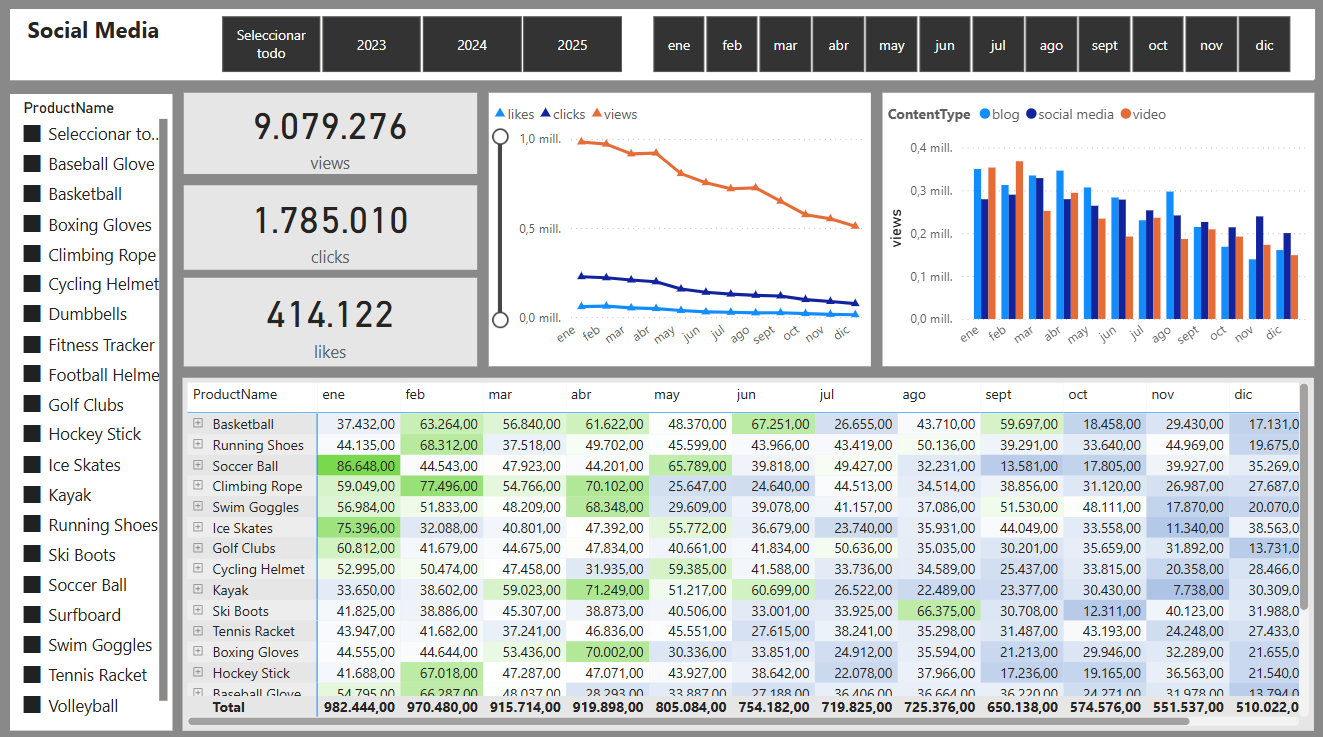

The dashboard page shown, as its layout file describes it:
{"tool":"powerbi","page":{"name":"Social Media","canvas":[1280,720],"ordinal":2},"visuals":[{"type":"textbox","box":[10.1,14.4,1258.7,69],"z":0},{"type":"slicer","fields":{"Values":["dim_products.ProductName"]},"box":[10.1,96.4,156.8,614.3],"z":1000},{"type":"card","fields":{"Values":["_Calculations.views"]},"box":[177.1,95.7,282.9,78.6],"z":2000},{"type":"card","fields":{"Values":["_Calculations.likes"]},"box":[177.1,274.3,282.9,85.7],"z":3000},{"type":"card","fields":{"Values":["_Calculations.clicks"]},"box":[177.1,184.3,282.9,81.4],"z":4000},{"type":"slicer","fields":{"Values":["Calendar.MonthNameShort"]},"box":[604.2,14.4,664.6,67.6],"z":5000},{"type":"slicer","fields":{"Values":["Calendar.Year"]},"box":[188.4,14.4,435.9,67.6],"z":6000},{"type":"lineChart","fields":{"Category":["Calendar.MonthNameShort"],"Y":["_Calculations.likes","_Calculations.clicks","_Calculations.views"]},"box":[471.4,95.7,368.6,264.3],"z":7000},{"type":"clusteredColumnChart","fields":{"Category":["Calendar.MonthNameShort"],"Series":["Fact_Engagement_Data.ContentType"],"Y":["_Calculations.views"]},"box":[851.4,95.7,417.1,264.3],"z":8000},{"type":"pivotTable","fields":{"Columns":["Calendar.MonthNameShort"],"Rows":["dim_products.ProductName","Fact_Engagement_Data.ContentType"],"Values":["_Calculations.views"]},"box":[176.7,370,1092,341],"z":9000}]}

Visuals, with their boxes in screenshot pixels (x1, y1, x2, y2), scaled from the page's 1280x720 canvas onto the 1323x737 screenshot:
textbox: l=10, t=15, r=1311, b=85
slicer - dim_products.ProductName: l=10, t=99, r=173, b=727
card - _Calculations.views: l=183, t=98, r=475, b=178
card - _Calculations.likes: l=183, t=281, r=475, b=368
card - _Calculations.clicks: l=183, t=189, r=475, b=272
slicer - Calendar.MonthNameShort: l=624, t=15, r=1311, b=84
slicer - Calendar.Year: l=195, t=15, r=645, b=84
lineChart - Calendar.MonthNameShort x _Calculations.likes: l=487, t=98, r=868, b=368
clusteredColumnChart - Calendar.MonthNameShort x Fact_Engagement_Data.ContentType: l=880, t=98, r=1311, b=368
pivotTable - Calendar.MonthNameShort x dim_products.ProductName: l=183, t=379, r=1311, b=728
